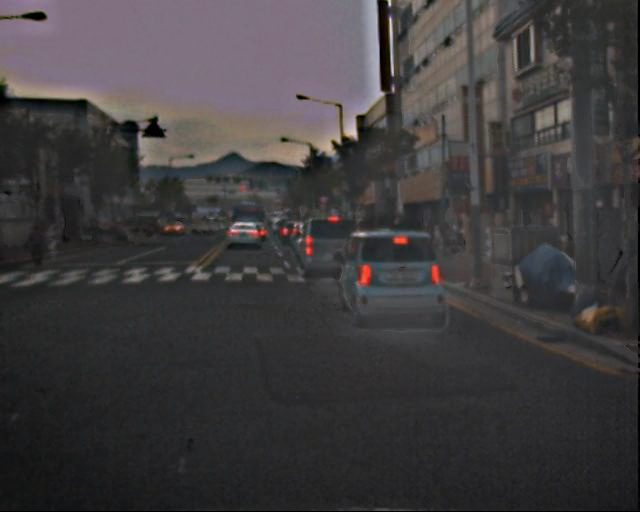person: (29, 221, 63, 272)
